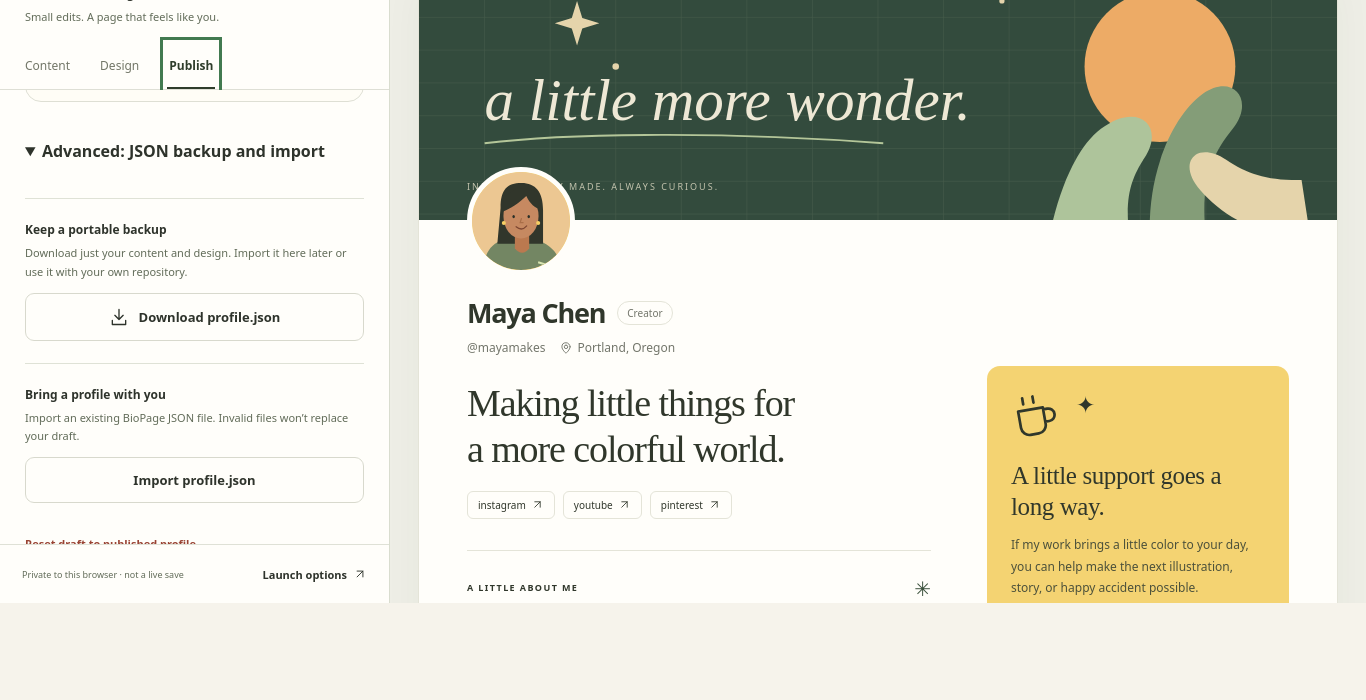
Test: BioPage DOM interactions (not browser layout tests) › exports the actual draft JSON and blocks invalid fields
Earlier steps of the test are not shown.
(page scrolled)
Click the button "Download profile.json" at (194, 317), box x1=25 y1=293 x2=364 y2=341
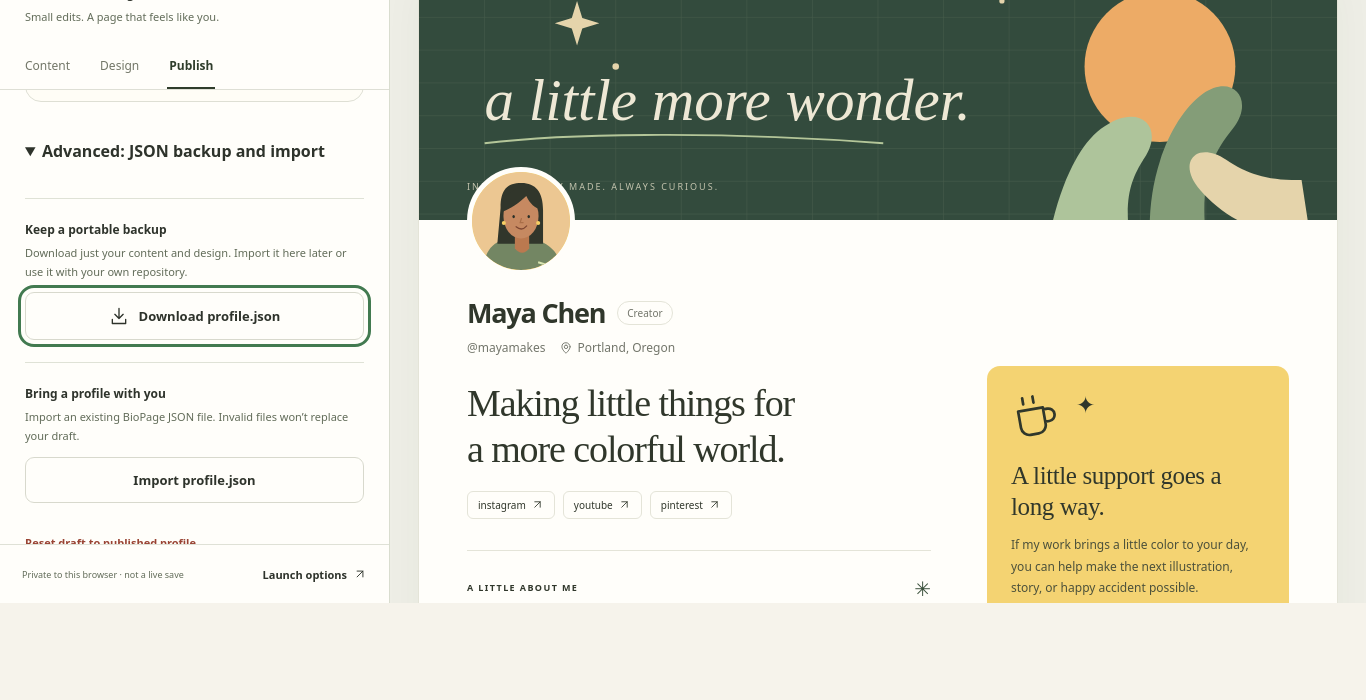
Click the button "Content" at (48, 66), box x1=23 y1=44 x2=72 y2=89
(page scrolled)
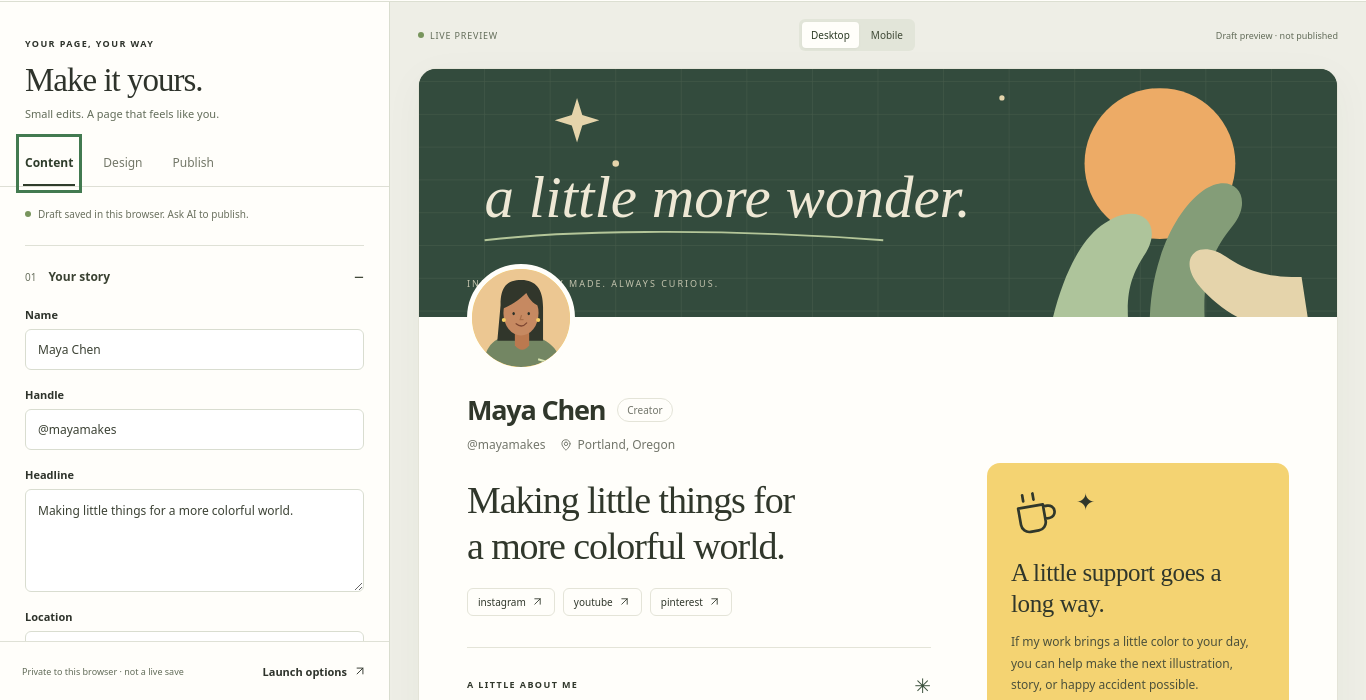
Clear the field labelled "Name" at (194, 350), box x1=25 y1=329 x2=364 y2=370
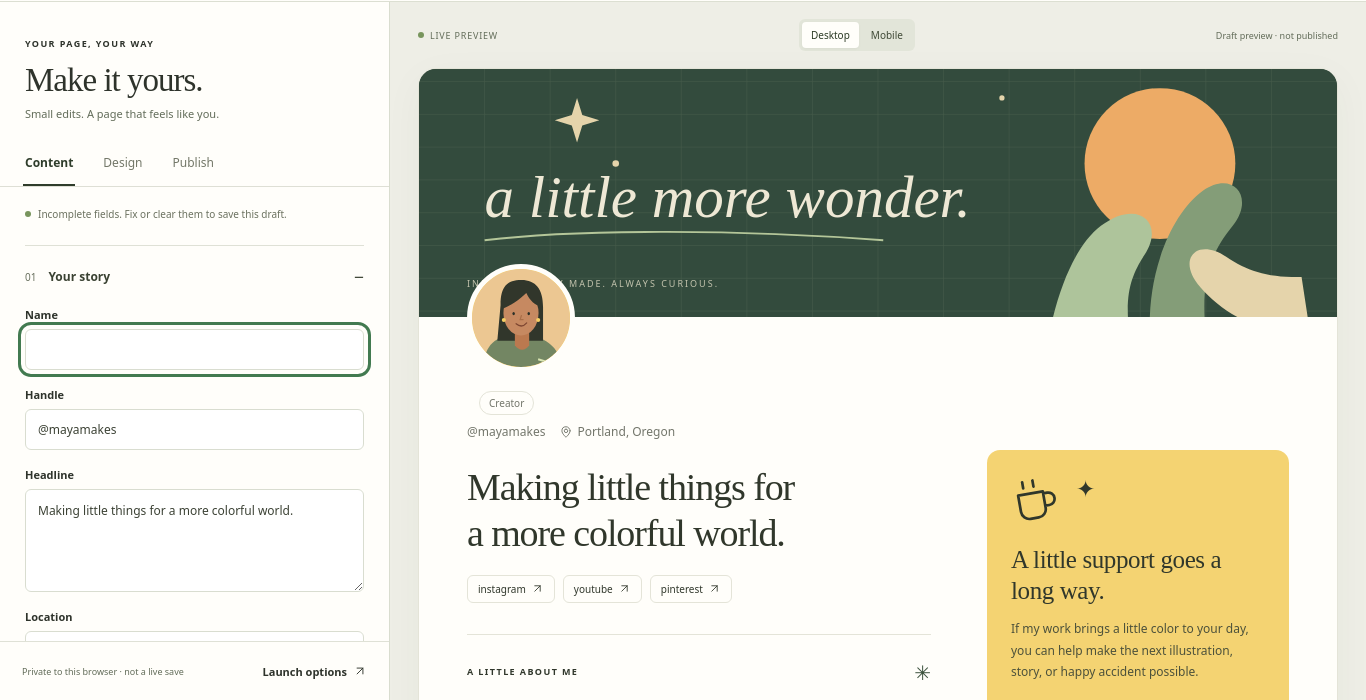
Click the button "Publish" at (193, 164), box x1=170 y1=141 x2=216 y2=186
(page scrolled)
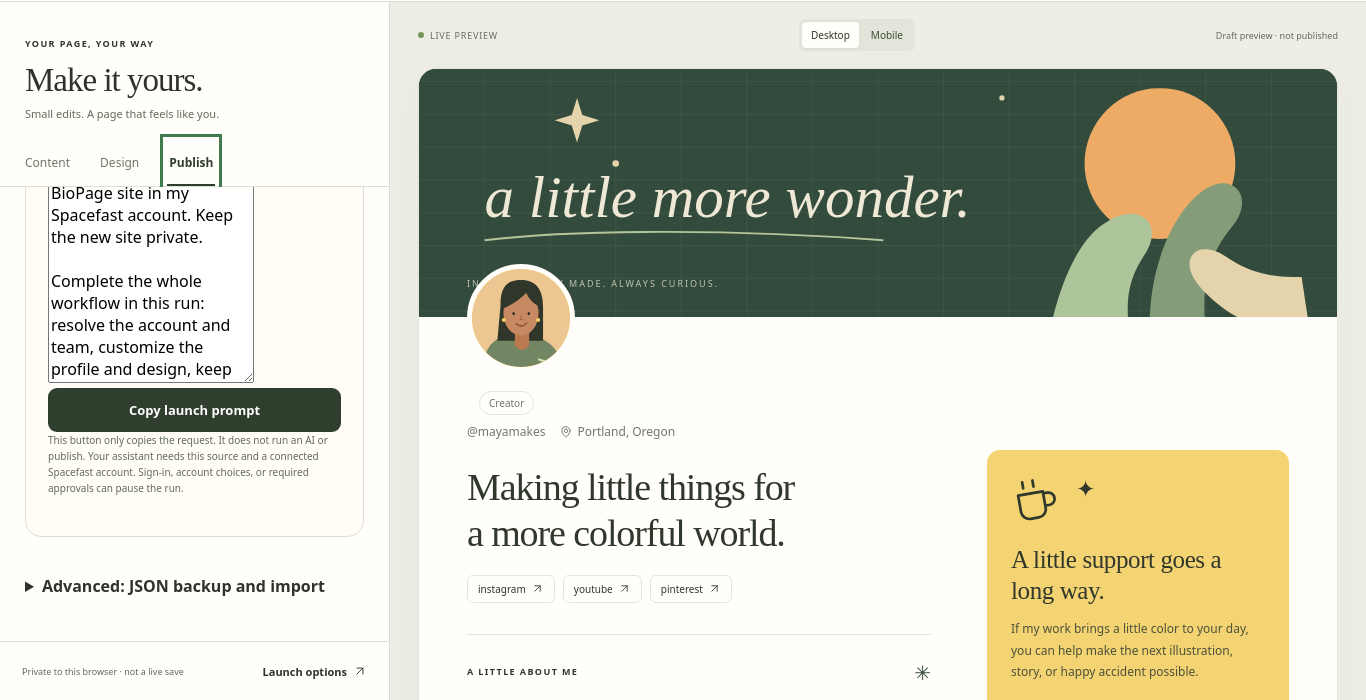
Click the heading "Advanced: JSON backup and import" at (183, 586), box x1=42 y1=575 x2=325 y2=597
(page scrolled)
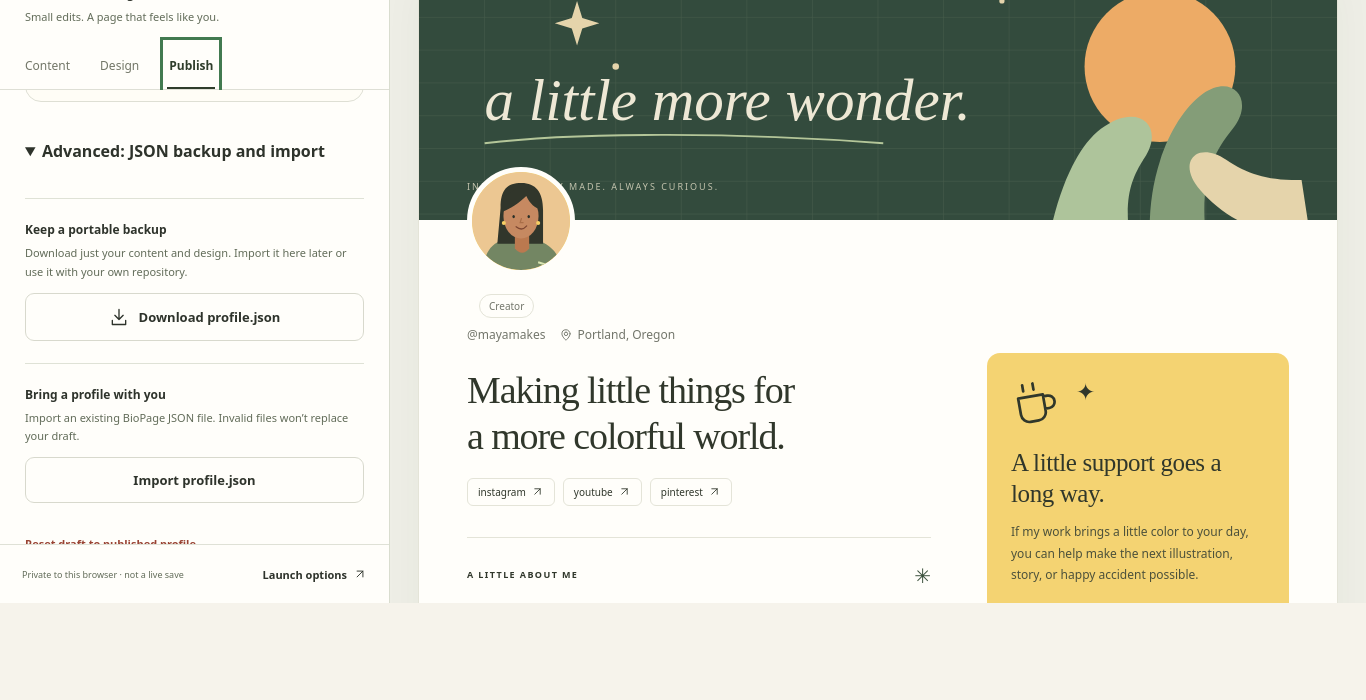
Click the button "Download profile.json" at (194, 317), box x1=25 y1=293 x2=364 y2=341
(page scrolled)
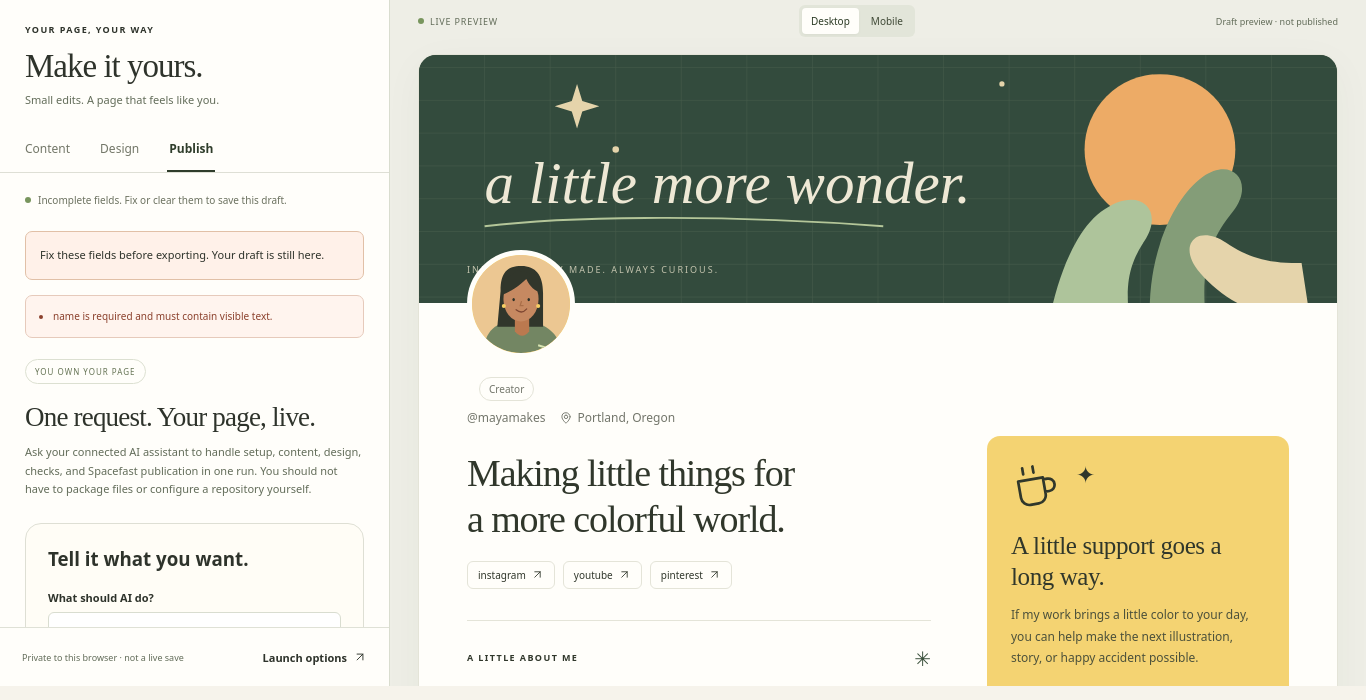
Result: the message "name is required and must contain visible text." is shown at x1=25 y1=295 x2=364 y2=338
